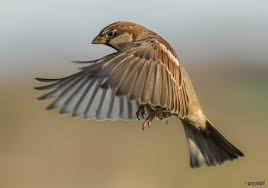hsparrow: (31, 20, 249, 171)
